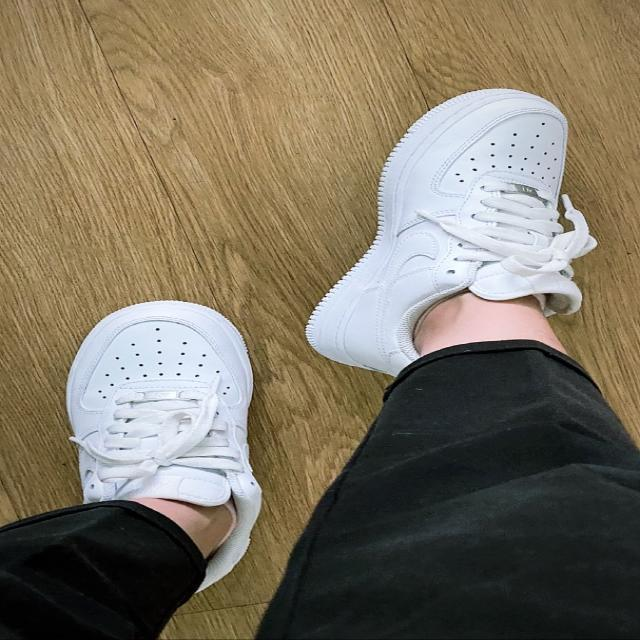nike original air force: (304, 81, 600, 379), (55, 299, 261, 597)
